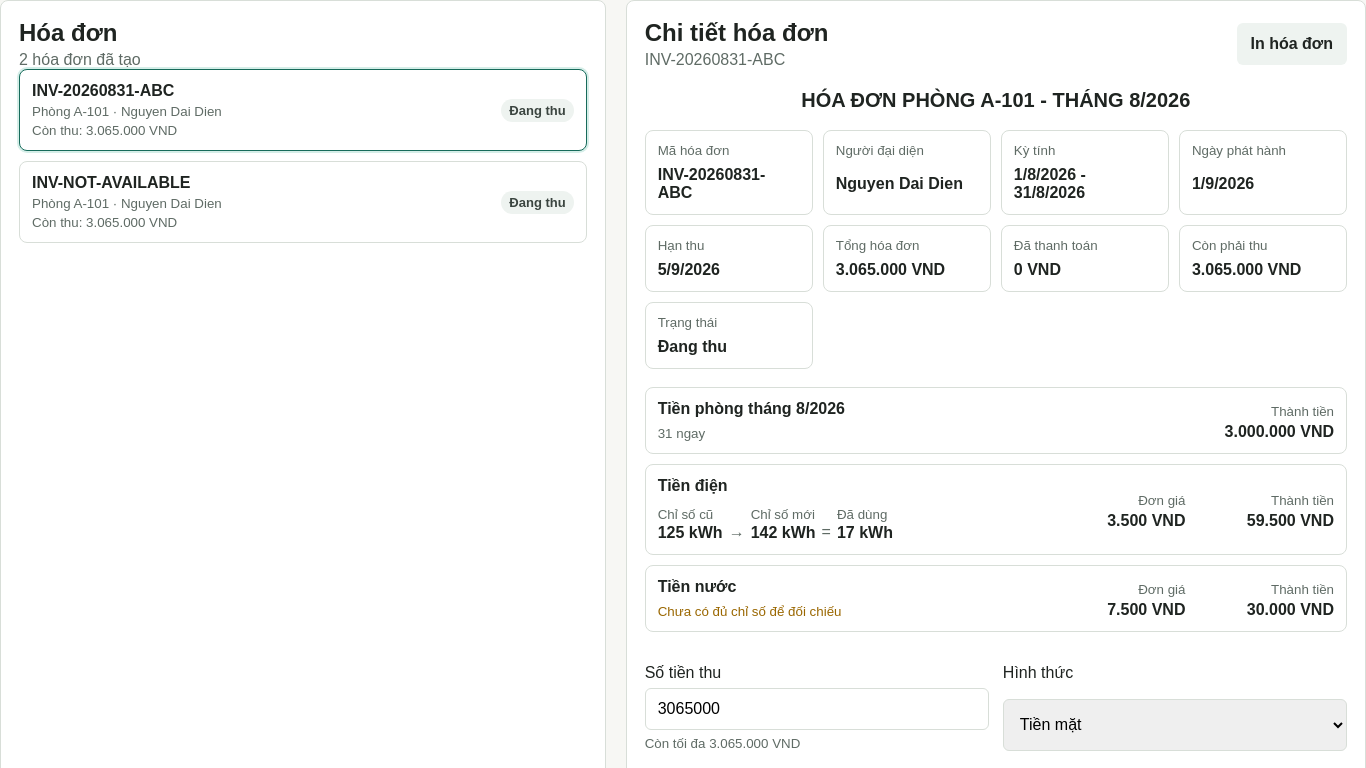
Test: InvoicesPage › clears the previous detail when an exact invoice deep-link fails
Expected: the text "Tiền phòng tháng 8/2026" is shown, [658, 400, 845, 417]
Click the button "INV-NOT-AVAILABLE". click: [111, 182]
box: [19, 161, 587, 243]
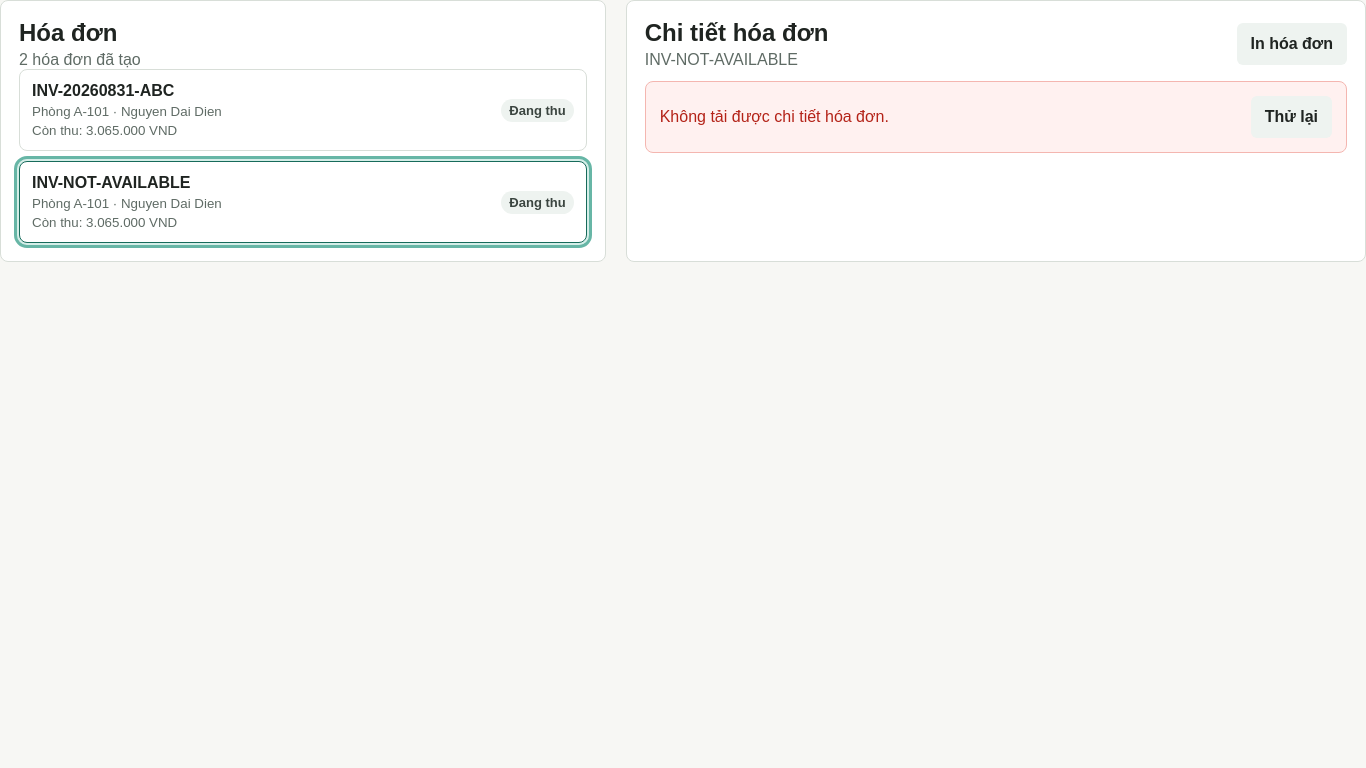
Expected: the text "Không tải được chi tiết hóa đơn." is shown, [660, 108, 889, 126]
Expected: the text "Tiền phòng tháng 8/2026" is gone
